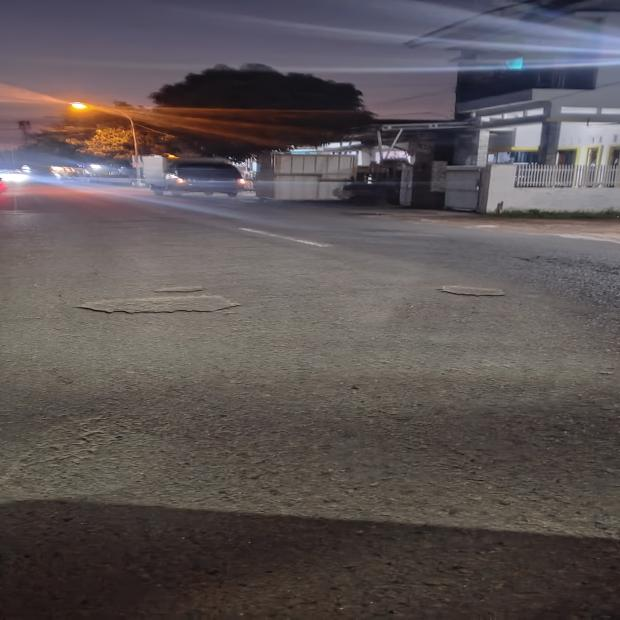lubang: (75, 288, 239, 314), (437, 286, 504, 297)
